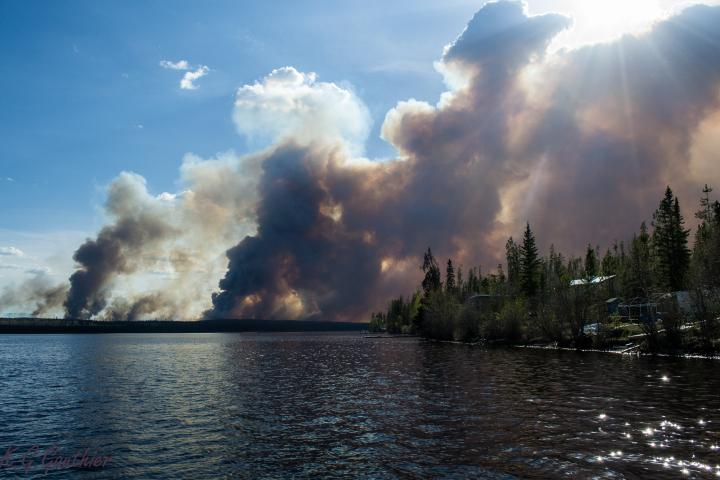smoke: (195, 14, 715, 327), (62, 171, 189, 324), (27, 284, 68, 318), (124, 293, 156, 331)
